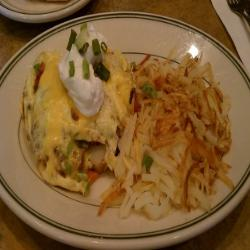chantilly: (56, 26, 113, 117)
omelette: (26, 40, 127, 191)
